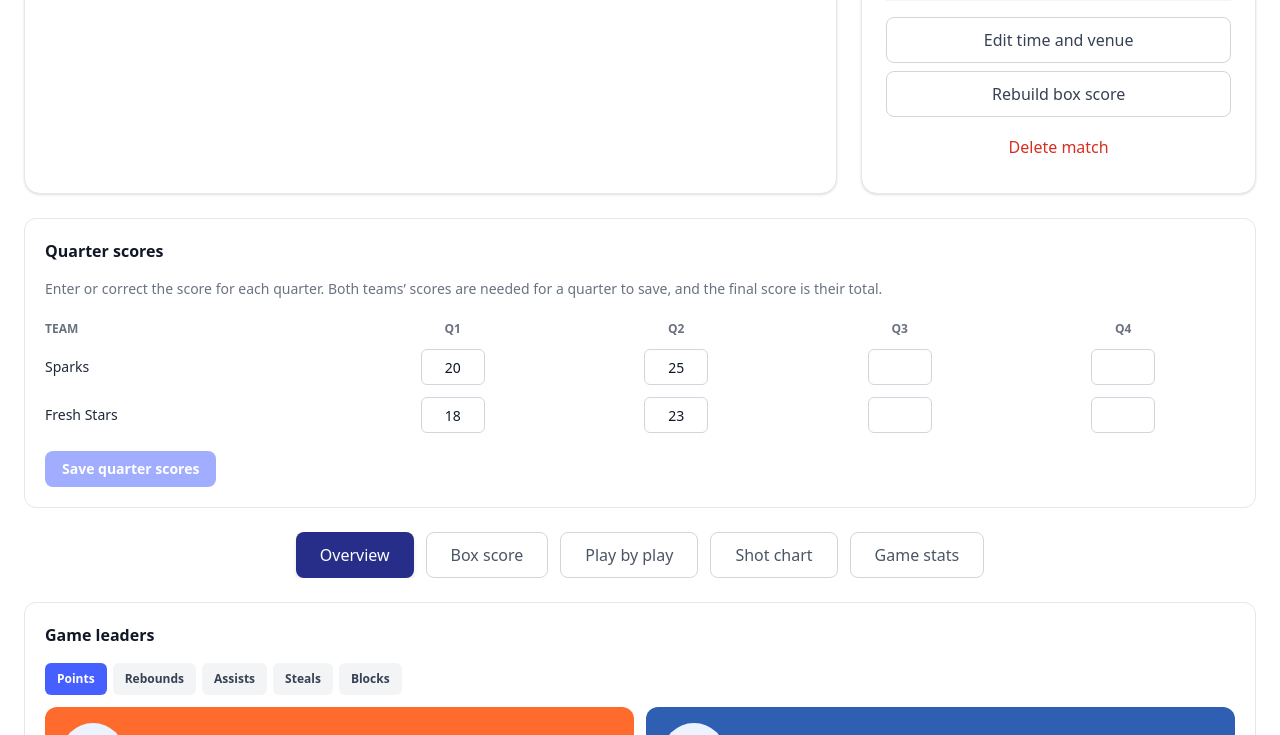
Test case: Match: quarter scores (restored, Fix 128) › says so when a quarter has only one team’s score, and leaves it out
The width and height of the screenshot is (1280, 735).
(page scrolled)
Type "5" into the field named "Sparks quarter 4" at (1123, 367), box [1091,349,1155,385]
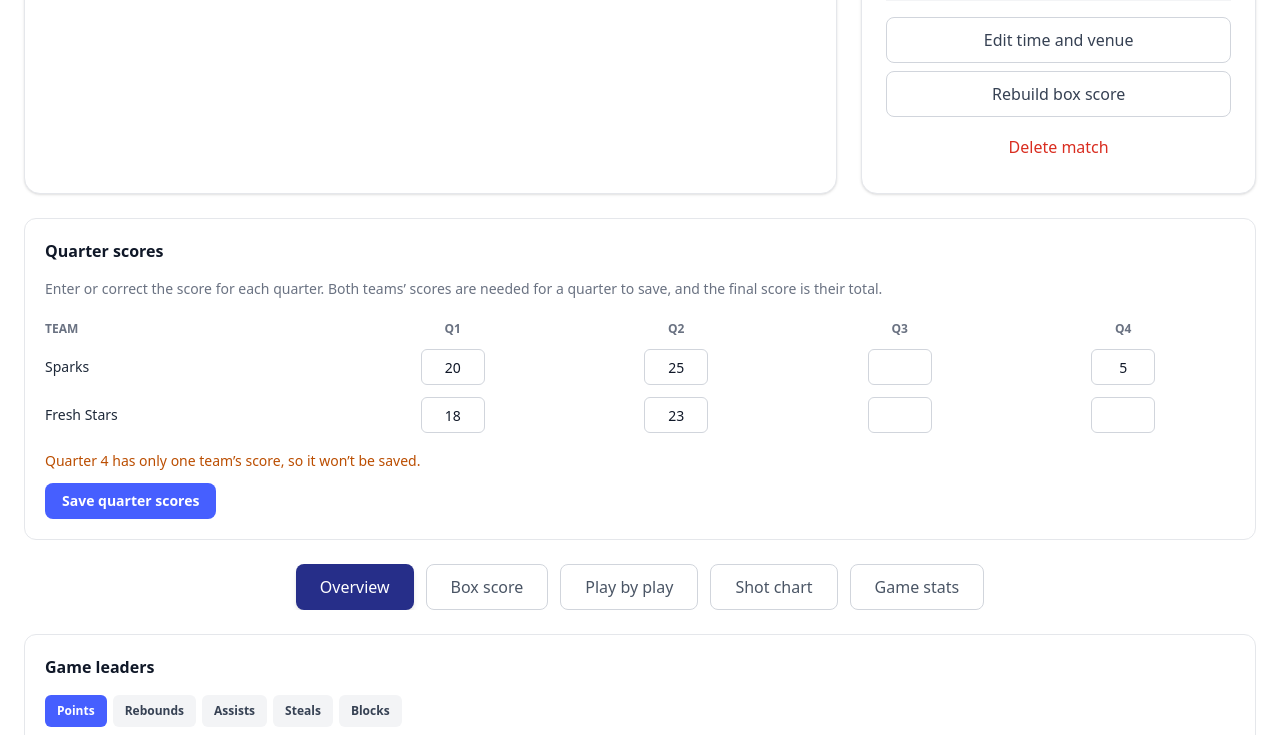
Result: the text "Quarter 4 has only one team’s score, so it won’t be saved." is shown at [45,451,420,470]
